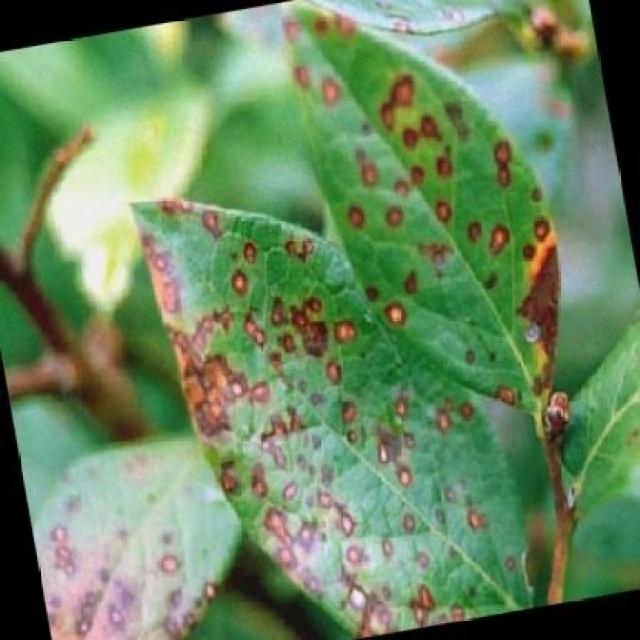Septoria leaf spot: (120, 130, 542, 639), (266, 0, 588, 494)
